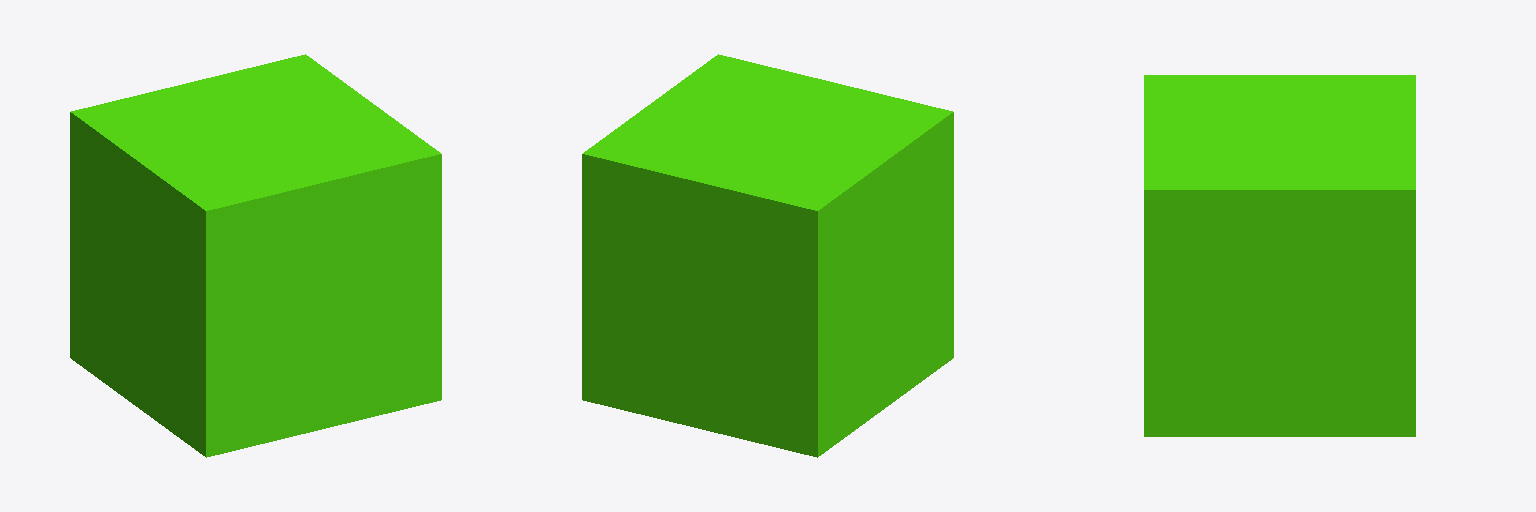
3 views of the same model, side by side, from view 1: azimuth 30°, elevation 25°; view 2: azimuth 150°, elevation 25°; view 3: azimuth 270°, elevation 25° (orthographic).
Visible parts, largest first — view 1: object 1; view 2: object 1; view 3: object 1.
Boxes of the visible parts, <box> form: object 1: <box>70,54,441,457</box>; object 1: <box>582,54,953,457</box>; object 1: <box>1144,75,1415,436</box>.
Bounding box in the file's own units: 1 × 1 × 1.
Materials: 1 (1 with a texture image).